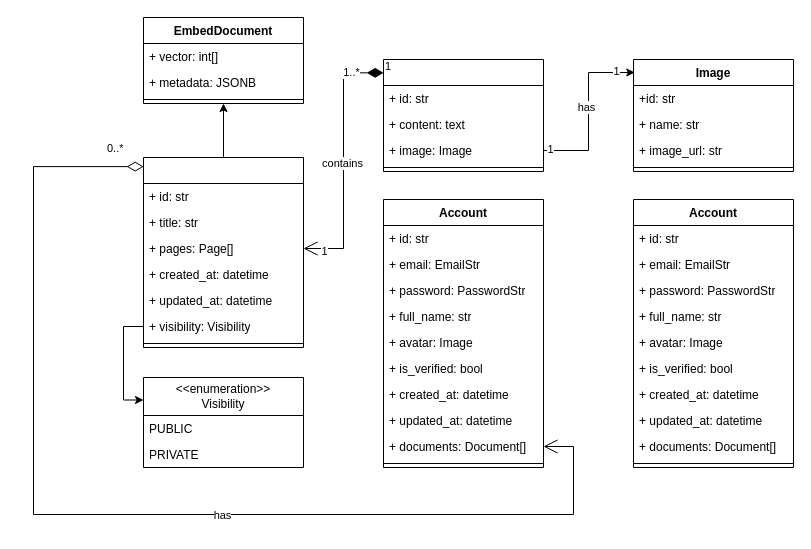
Some shapes in this 811 by 549 pixel diagram are drawn without their labels. Here are the shapes that lost their labels. From the top down, the box of each, then its label:
(382, 58, 544, 172): Page
(142, 156, 304, 348): Document
